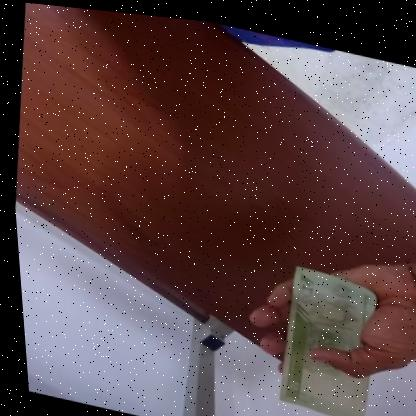fifty-back-vef: (264, 254, 382, 416)
